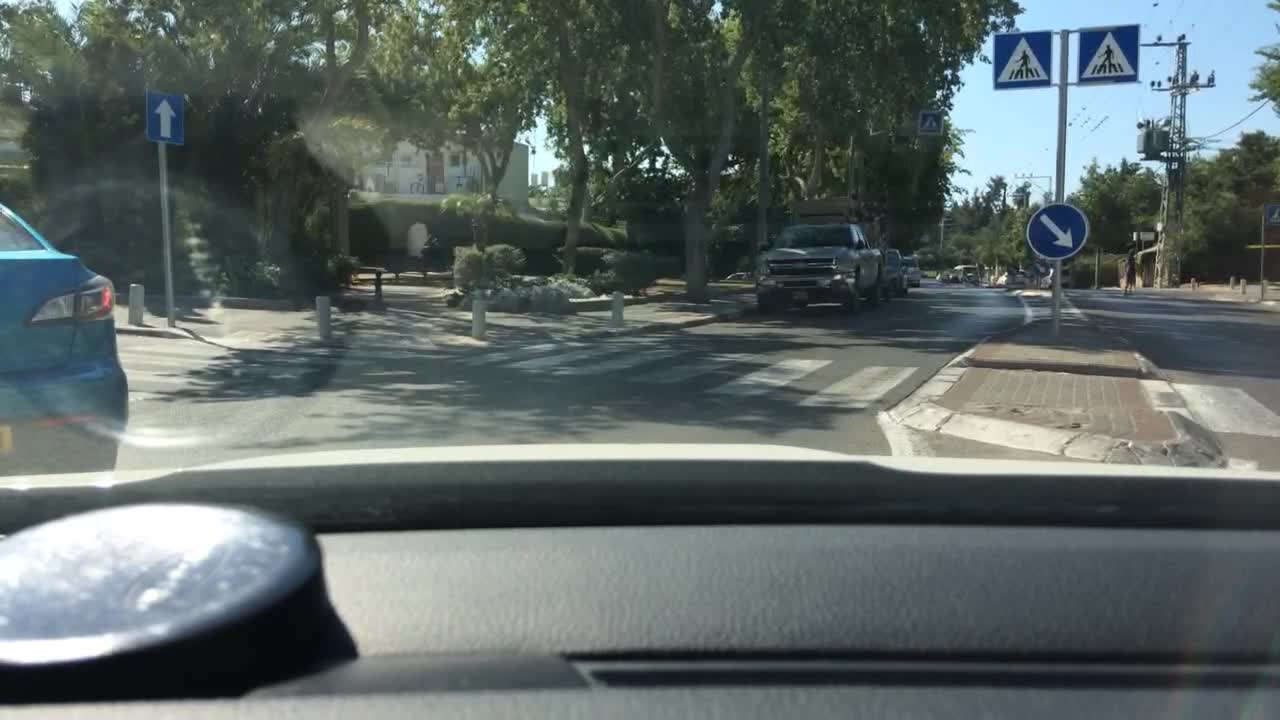car: (0, 201, 128, 474), (754, 217, 888, 319), (877, 246, 905, 296), (900, 255, 923, 286), (953, 264, 982, 286), (936, 264, 956, 283)
person: (1121, 246, 1141, 298)
traffic sign: (1026, 203, 1089, 264), (1077, 26, 1138, 86), (990, 31, 1052, 90), (145, 92, 188, 144), (916, 107, 950, 135)
